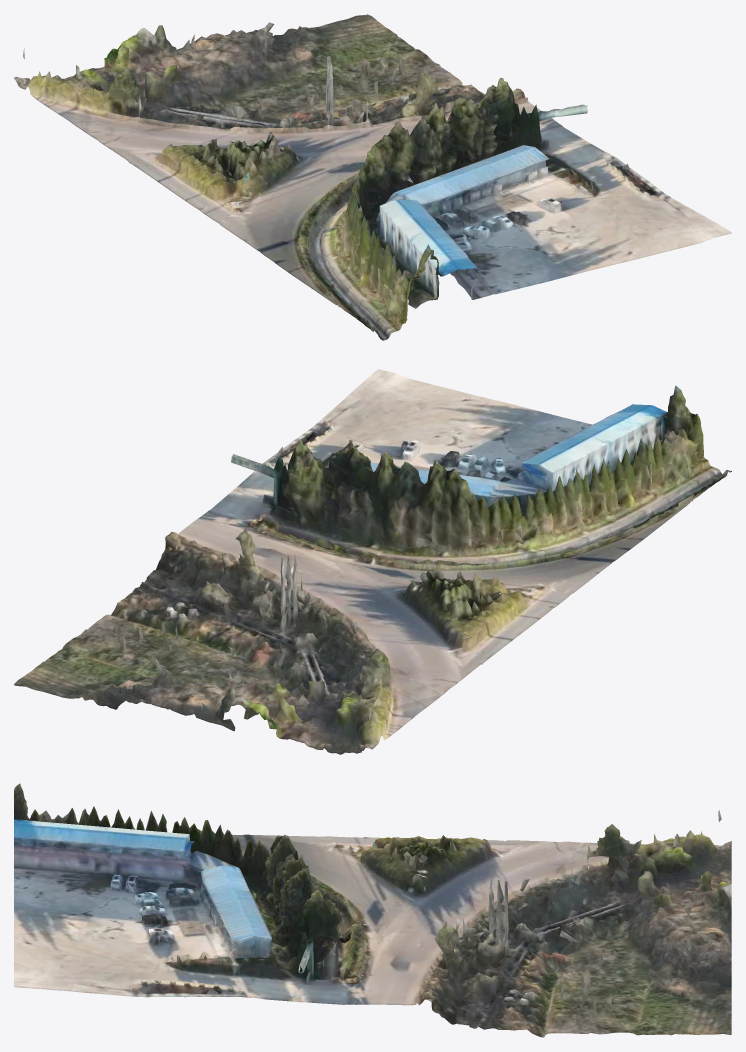
File: BlockBBBB_L17_23.glb
3 renders of one model, top to bottom at view 1: azimuth 30°, elevation 25°; view 2: azimuth 150°, elevation 25°; view 3: azimuth 270°, elevation 25°, orthographic.
Parts seen in each view (by area): view 1: rtc; view 2: rtc; view 3: rtc.
Boxes of the visible parts, x1,y1,x2,y2 form: rtc: [14, 14, 731, 340]; rtc: [14, 369, 731, 754]; rtc: [14, 783, 731, 1037].
Size of the model in its own units: 69.2 by 22.02 by 123.
Materials: 3 (3 with a texture image).
